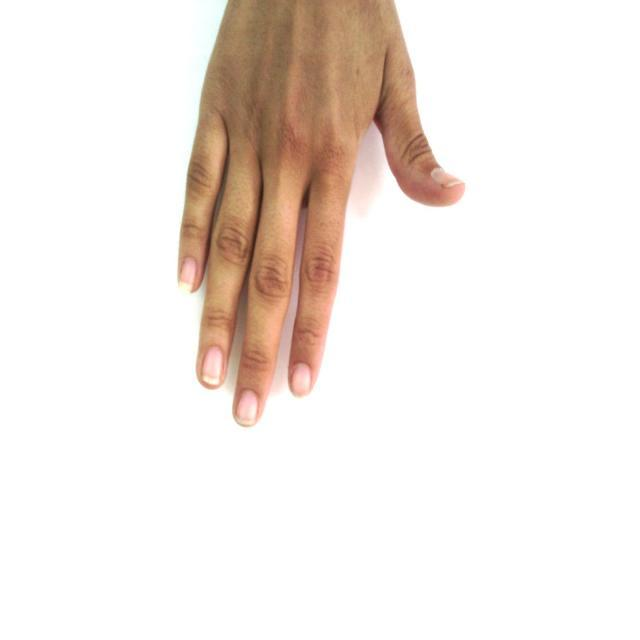Fingernail: (202, 346, 223, 386), (237, 391, 257, 425), (292, 364, 311, 397), (179, 258, 197, 290), (432, 169, 462, 187)
